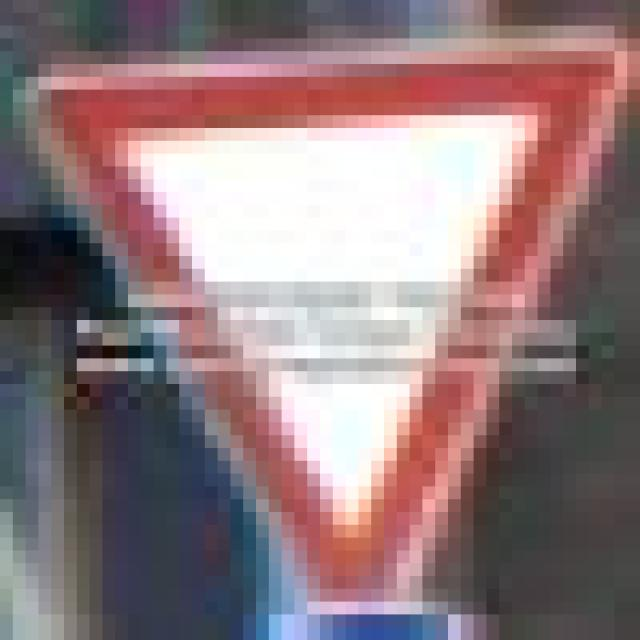gap_in_median: (12, 38, 602, 589)
